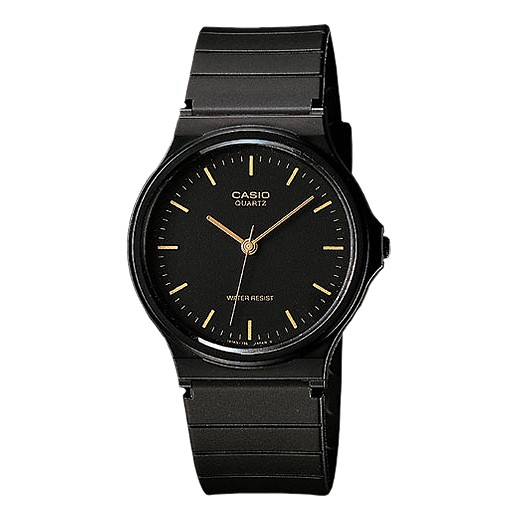clock: (125, 125, 372, 370)
